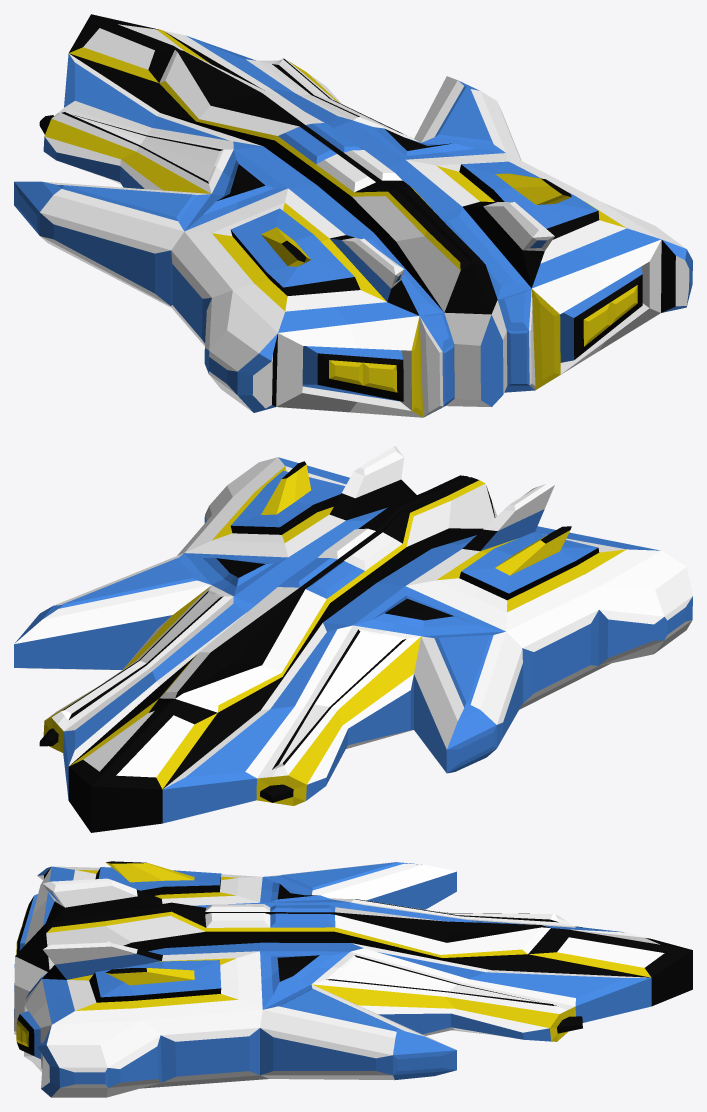
File: ship1.fbx
The picture shows the model from 3 angles, top to bottom: view 1: azimuth 30°, elevation 25°; view 2: azimuth 150°, elevation 25°; view 3: azimuth 270°, elevation 25°; orthographic projection. The views are drawn at different scales.
Parts seen in each view (by area): view 1: Cube; view 2: Cube; view 3: Cube.
Boxes of the visible parts, x1,y1,x2,y2 form: Cube: (14, 14, 692, 417); Cube: (14, 446, 692, 832); Cube: (14, 861, 692, 1097).
Bounding box in the file's own units: 392 × 129 × 594.
